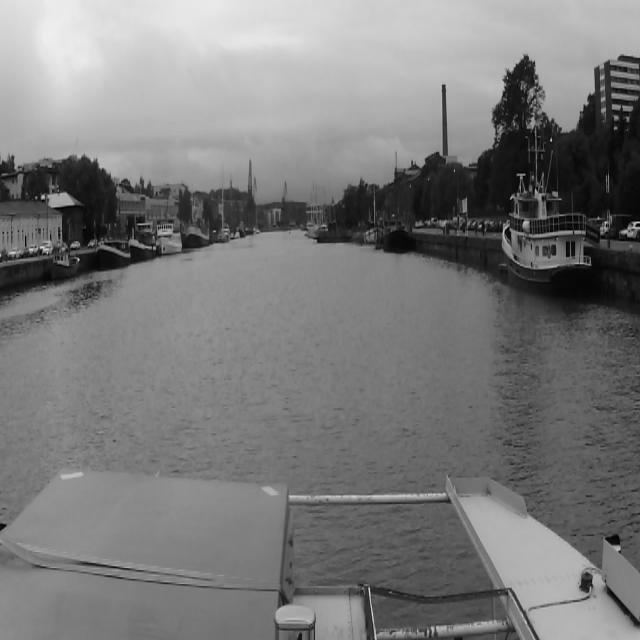ship: (499, 127, 605, 302), (91, 230, 131, 265), (52, 246, 86, 280), (160, 218, 187, 260), (382, 219, 414, 254), (130, 222, 160, 257), (313, 222, 353, 244), (303, 178, 325, 217), (188, 222, 210, 246)
